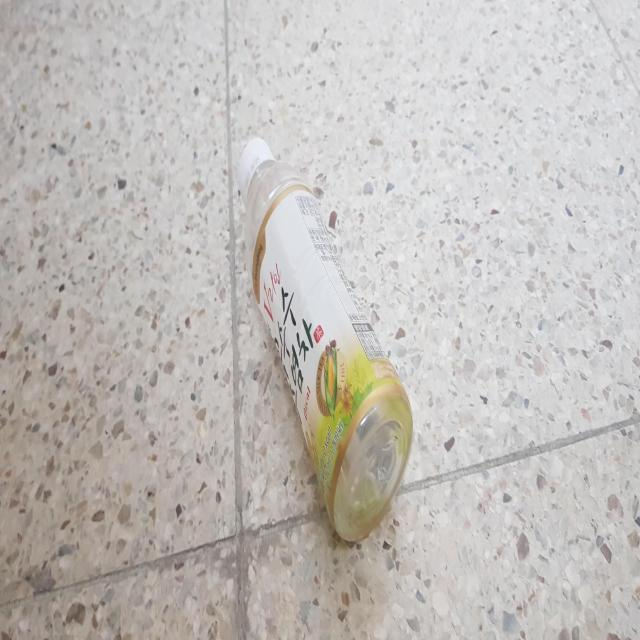plastic: (239, 136, 413, 541)
